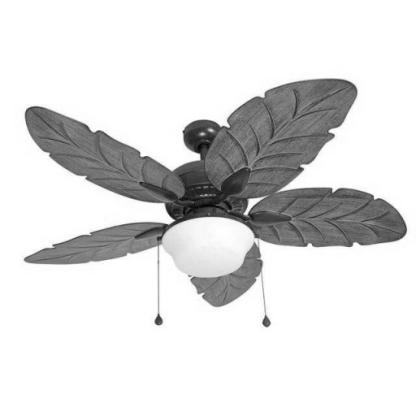ceiling-fan: (23, 78, 406, 328)
